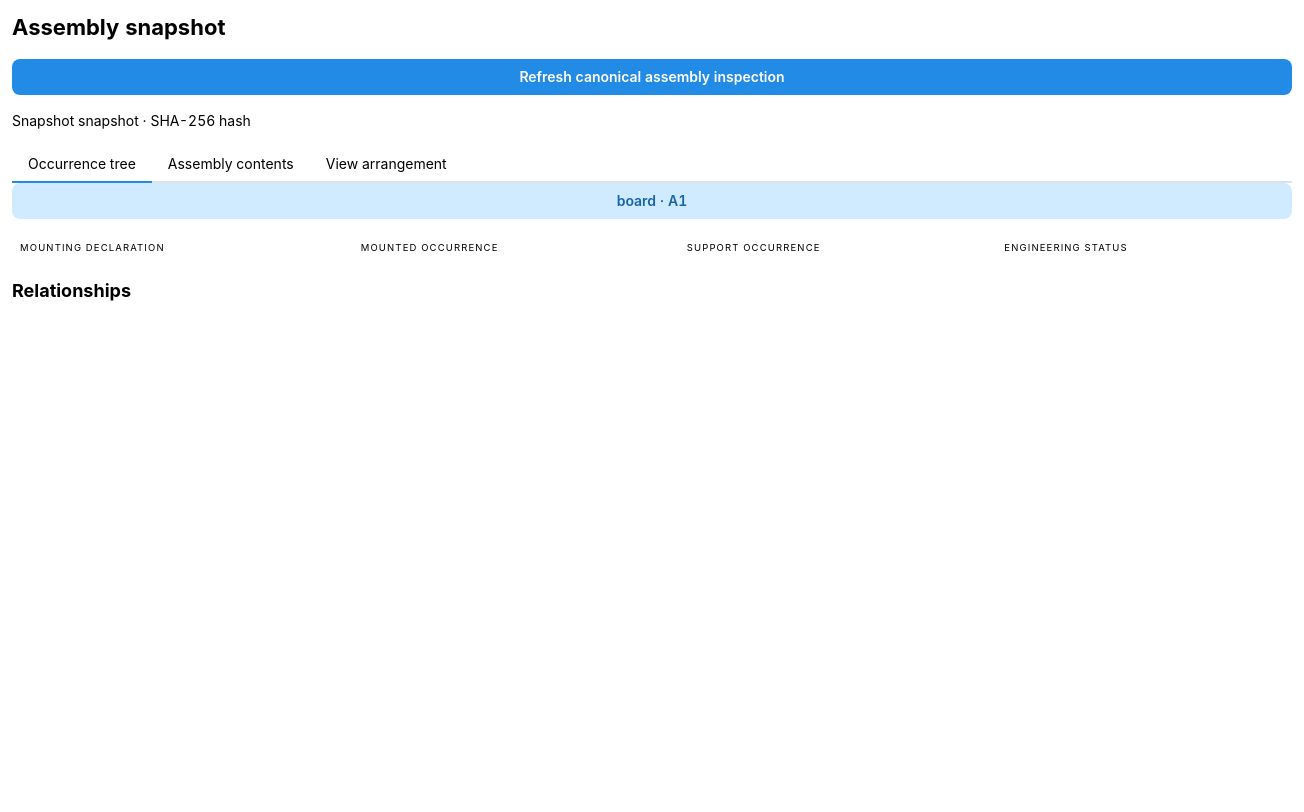
it: denied frozen refresh cannot retain private canonical placement or mounting details
Click the button "board · A1".
click(652, 201)  # box top-left (12, 183), bottom-right (1292, 219)
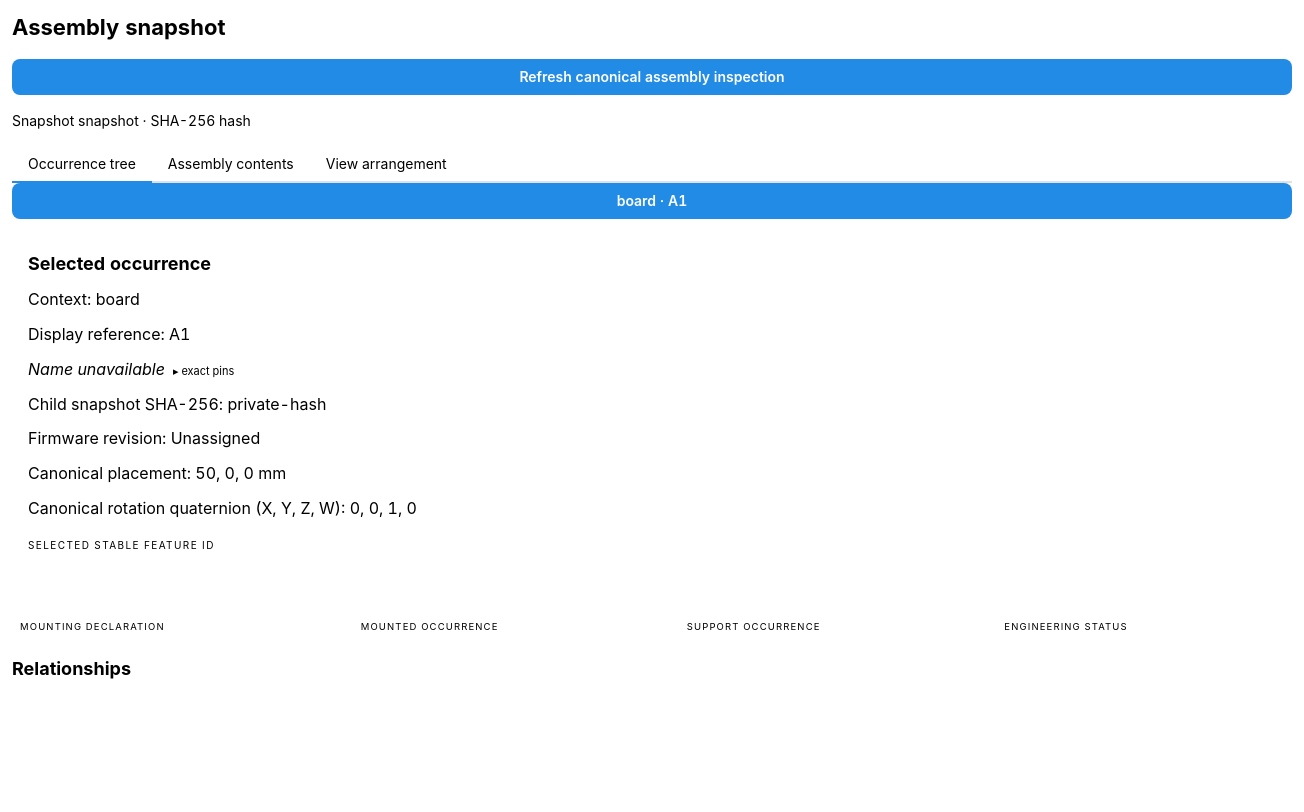
Expected: the text "Canonical rotation quaternion (X, Y, Z, W): 0, 0, 1, 0" is shown, top-left (28, 498), bottom-right (417, 518)
Click the button "Refresh canonical assembly inspection".
click(652, 77)  # box top-left (12, 59), bottom-right (1292, 95)
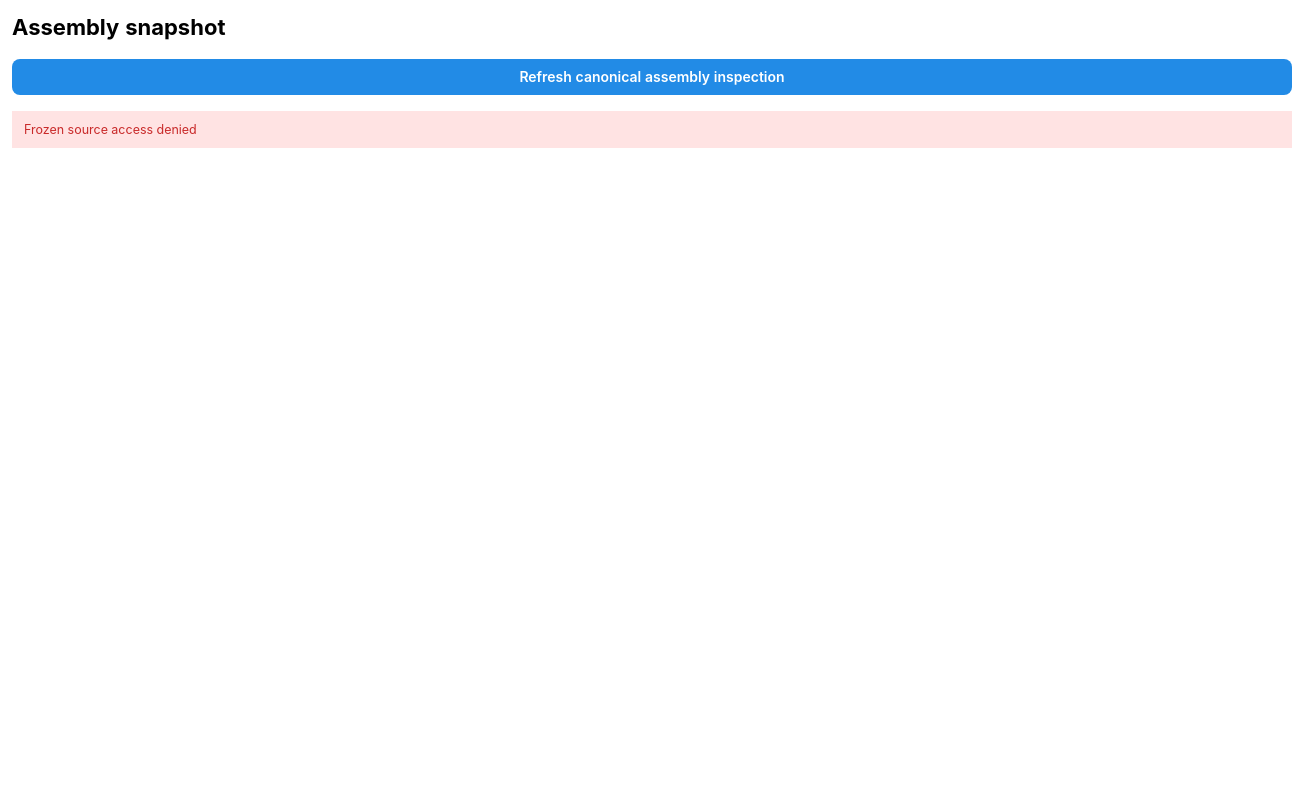
Expected: the text "Frozen source access denied" is shown, top-left (24, 122), bottom-right (197, 137)
Expected: the text "Canonical placement: 50, 0, 0 mm" is gone
